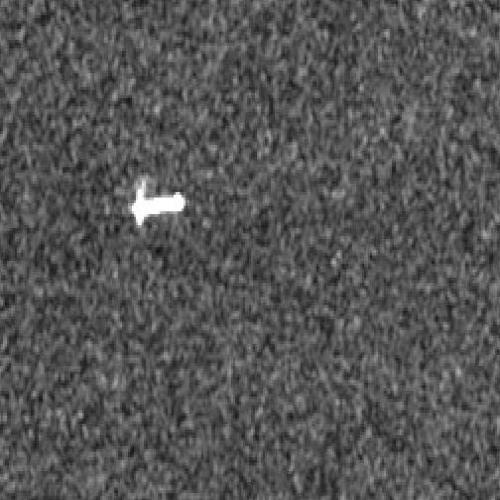ship: (130, 191, 186, 226)
